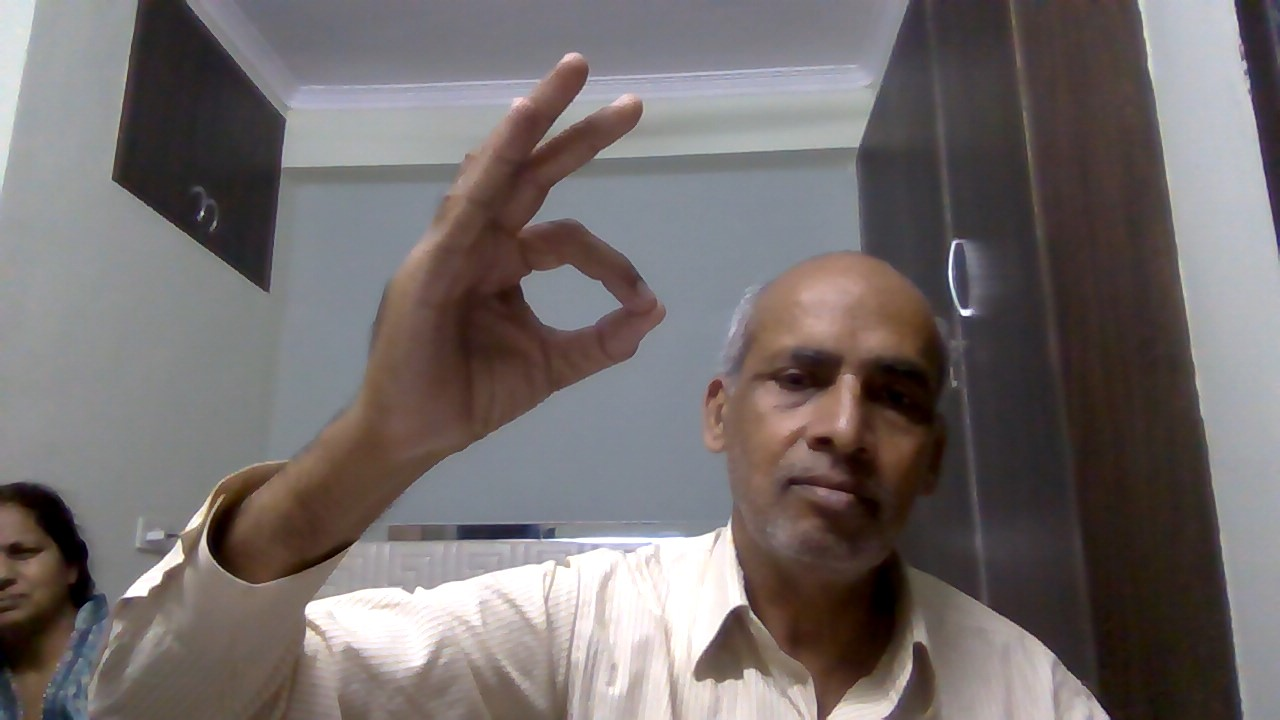Copy: (362, 38, 676, 502)
